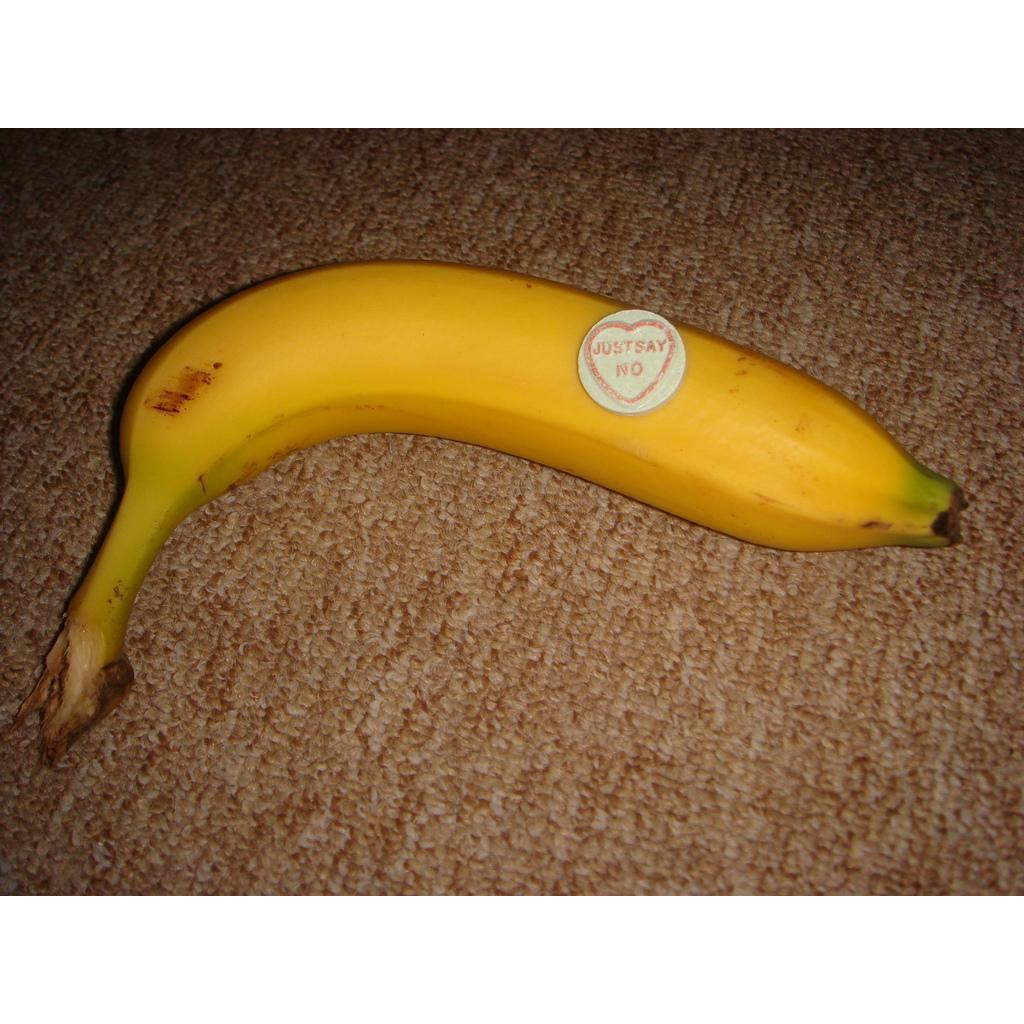banana: (40, 261, 958, 762)
